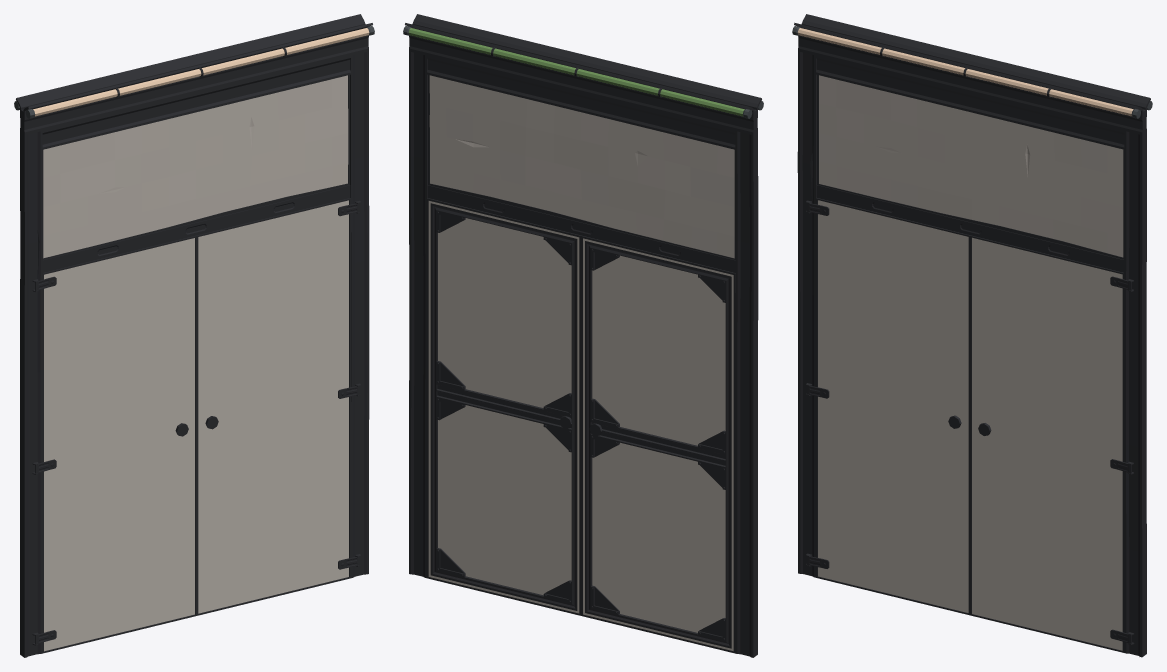
File: SM_Wall_Door_WHITE.gltf
The picture shows the model from 3 angles, left to right: view 1: azimuth 30°, elevation 25°; view 2: azimuth 150°, elevation 25°; view 3: azimuth 330°, elevation 25°; orthographic projection.
Visible parts, largest first — view 1: SM_Wall_Door_WHITE, SM_Door_Left_For_Wall_Door, SM_Door_Right_For_Wall_Door; view 2: SM_Wall_Door_WHITE, SM_Door_Left_For_Wall_Door, SM_Door_Right_For_Wall_Door; view 3: SM_Wall_Door_WHITE, SM_Door_Right_For_Wall_Door, SM_Door_Left_For_Wall_Door.
Boxes of the visible parts, x1,y1,x2,y2 form: SM_Wall_Door_WHITE: (14, 14, 374, 657); SM_Door_Left_For_Wall_Door: (35, 235, 196, 653); SM_Door_Right_For_Wall_Door: (196, 198, 360, 615); SM_Wall_Door_WHITE: (403, 14, 763, 657); SM_Door_Left_For_Wall_Door: (579, 235, 735, 653); SM_Door_Right_For_Wall_Door: (427, 198, 581, 615); SM_Wall_Door_WHITE: (792, 14, 1152, 657); SM_Door_Right_For_Wall_Door: (970, 235, 1131, 652); SM_Door_Left_For_Wall_Door: (806, 198, 970, 615).
Bounding box in the file's own units: 2 × 3.07 × 0.166.
